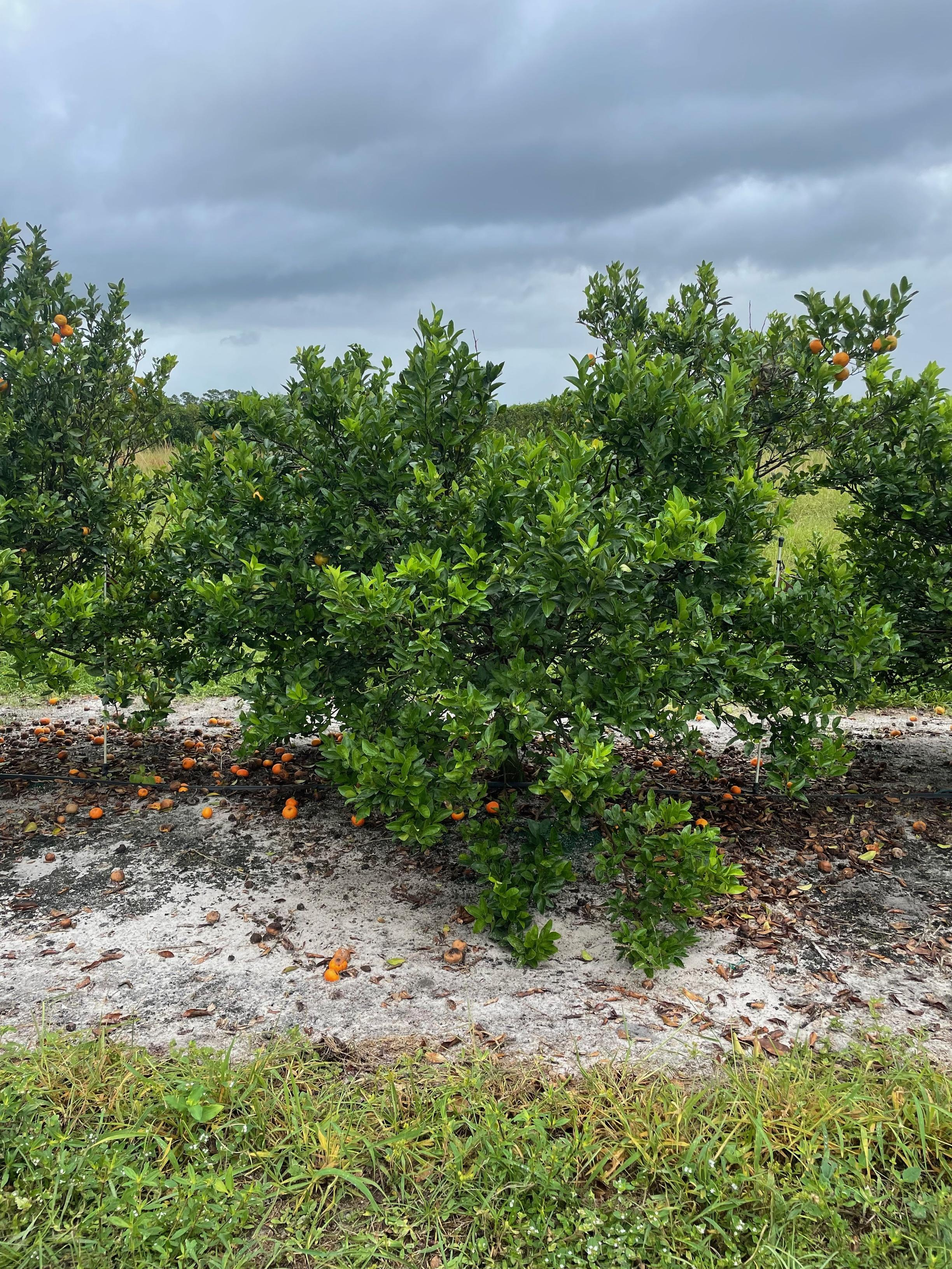fruit_on_ground: (870, 336, 889, 355), (832, 364, 851, 382), (832, 350, 850, 368), (808, 338, 825, 355), (882, 335, 899, 352), (314, 551, 331, 567), (53, 313, 69, 327), (583, 352, 597, 367), (48, 331, 62, 346), (0, 375, 11, 394), (149, 587, 163, 601), (60, 323, 74, 337), (251, 489, 266, 502), (80, 524, 93, 537), (16, 546, 29, 559), (165, 677, 177, 690)
fruit_on_tree: (442, 944, 466, 966), (446, 938, 469, 959), (328, 954, 348, 974), (281, 799, 300, 820), (483, 798, 502, 816), (332, 947, 352, 963), (816, 857, 834, 873), (349, 812, 367, 828), (324, 967, 342, 983), (109, 867, 126, 883), (449, 807, 467, 822), (204, 908, 220, 924), (911, 818, 928, 833), (441, 799, 457, 814), (278, 764, 294, 778), (265, 921, 281, 935), (89, 805, 104, 819), (747, 755, 763, 768), (65, 800, 79, 814), (271, 762, 286, 775), (151, 773, 164, 787), (694, 815, 709, 827), (236, 766, 251, 778), (181, 757, 196, 769), (934, 703, 948, 715), (259, 756, 273, 768), (106, 719, 119, 731), (130, 735, 143, 747), (229, 762, 242, 774), (195, 745, 208, 757), (720, 789, 733, 801), (730, 783, 743, 795), (201, 806, 214, 818), (271, 746, 285, 757), (252, 757, 266, 768), (175, 783, 189, 794), (161, 797, 175, 808), (37, 714, 51, 725), (280, 750, 294, 761), (168, 780, 182, 791), (44, 851, 56, 863), (56, 748, 68, 760), (135, 785, 147, 797), (310, 735, 322, 747), (310, 790, 323, 801), (52, 729, 65, 740), (93, 733, 106, 744), (889, 727, 902, 738), (182, 737, 195, 748), (210, 768, 222, 779), (695, 745, 707, 756), (194, 738, 206, 749), (54, 812, 66, 823), (47, 695, 60, 705), (105, 751, 116, 762), (197, 784, 209, 794), (67, 766, 79, 776), (652, 757, 664, 767), (86, 715, 98, 725), (211, 743, 222, 753), (907, 713, 918, 723), (33, 727, 45, 736), (41, 725, 51, 735), (668, 767, 679, 776), (192, 726, 203, 735), (334, 731, 345, 740), (208, 717, 219, 726), (63, 738, 74, 747), (38, 736, 49, 744), (694, 713, 703, 722), (44, 724, 55, 731)
